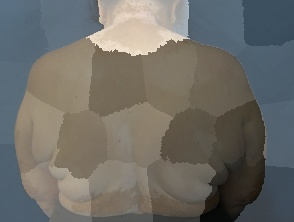vitiligo: (86, 0, 193, 60)
